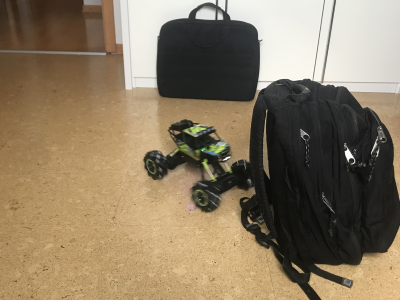remote control car: (140, 118, 256, 215)
